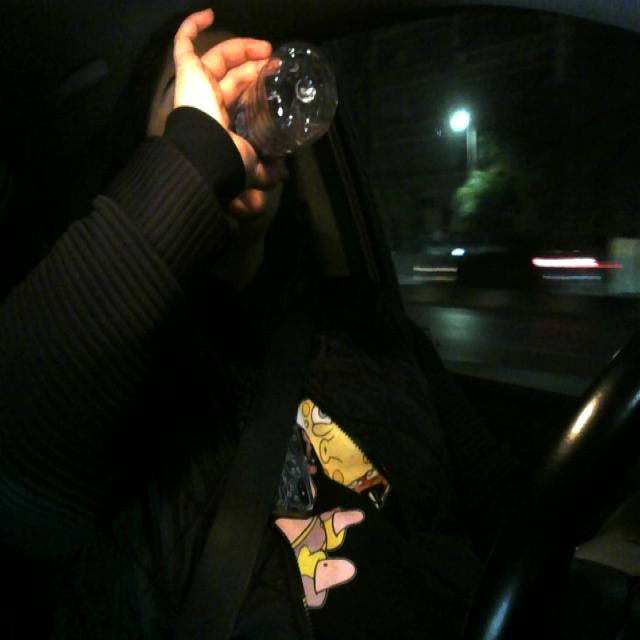drinking: (195, 27, 361, 175)
